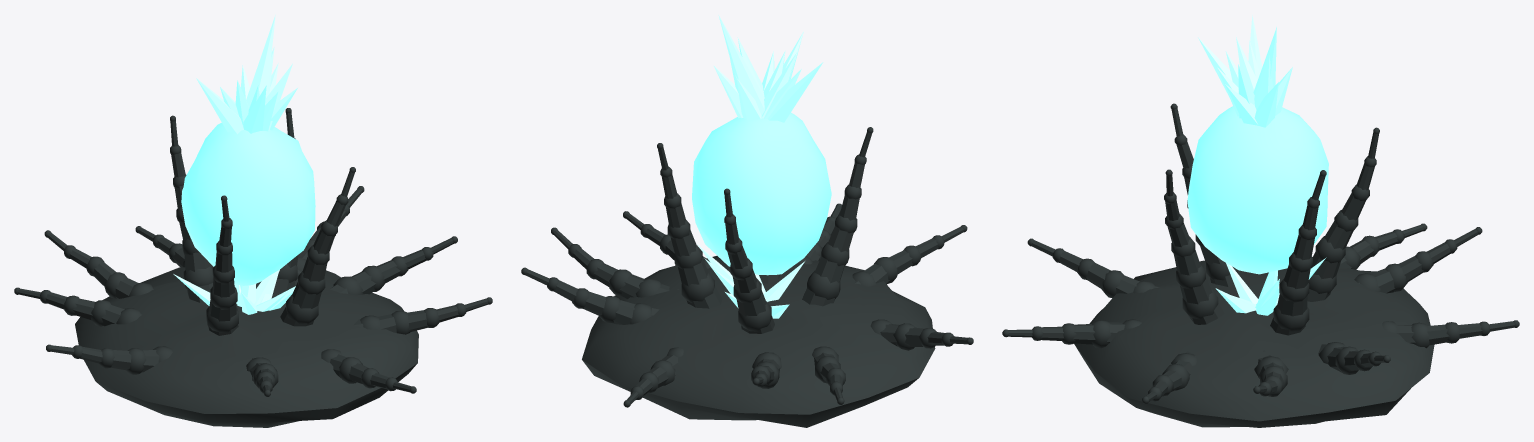
The model's file is the_source.glb.
The picture shows the model from 3 angles, left to right: view 1: azimuth 30°, elevation 25°; view 2: azimuth 150°, elevation 25°; view 3: azimuth 270°, elevation 25°; orthographic projection. The views are drawn at different scales.
Parts seen in each view (by area): view 1: body_mesh; view 2: body_mesh; view 3: body_mesh.
Boxes of the visible parts, x1,y1,x2,y2 form: body_mesh: [14, 15, 492, 427]; body_mesh: [521, 15, 973, 427]; body_mesh: [1002, 14, 1519, 427].
Bounding box in the file's own units: 3.85 × 3.2 × 3.96.
